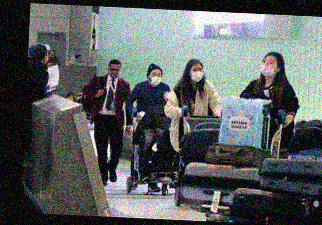with_mask: (260, 57, 278, 77), (189, 66, 204, 82), (149, 70, 162, 86)
without_mask: (108, 65, 120, 78), (48, 51, 56, 59)
